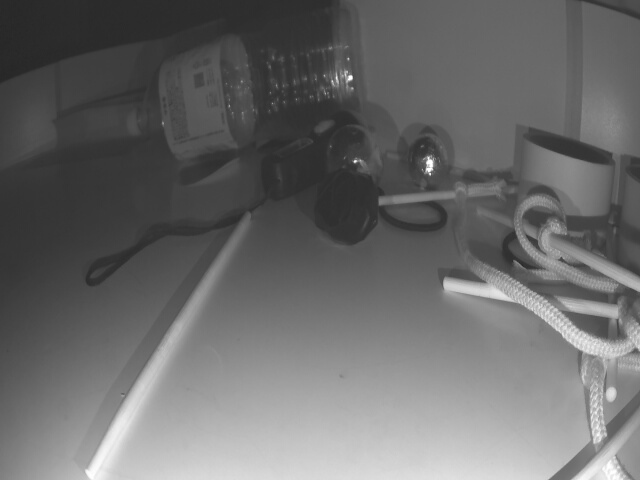Dead: (315, 177, 385, 243)
Live: (327, 124, 383, 185), (408, 131, 447, 189)
